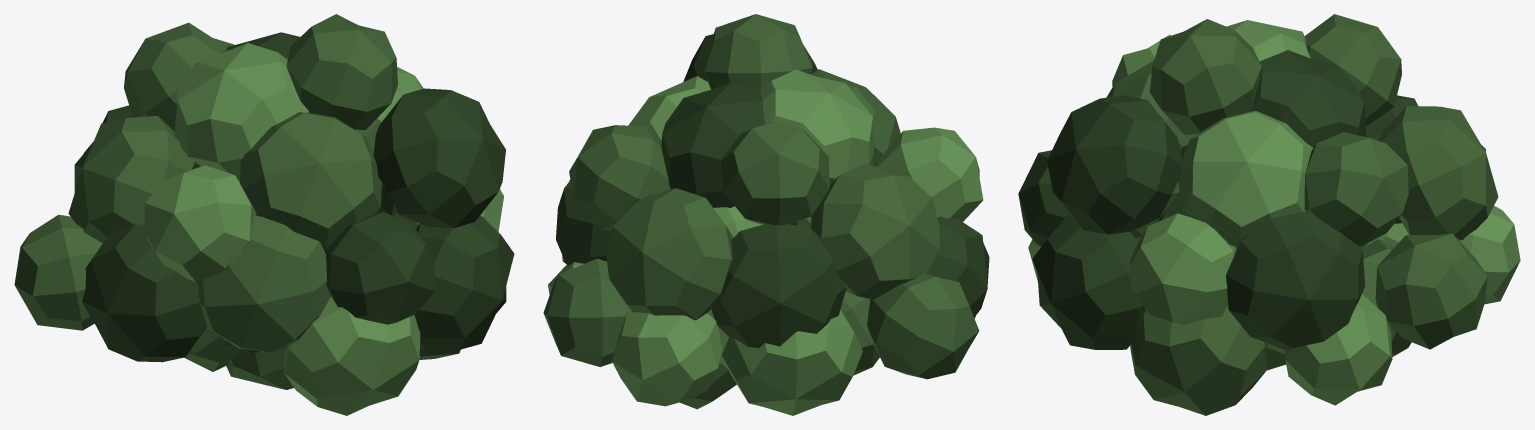
The model's file is buisson_1.fbx.
3 views of the same model, side by side, from view 1: azimuth 30°, elevation 25°; view 2: azimuth 150°, elevation 25°; view 3: azimuth 270°, elevation 25° (orthographic). The views are drawn at different scales.
Visible parts, largest first — view 1: polySurface109, polySurface107, polySurface117, polySurface121, polySurface103, polySurface126, polySurface110, polySurface112, polySurface119, polySurface116, polySurface104, polySurface120 (+6 smaller); view 2: polySurface111, polySurface110, polySurface115, polySurface125, polySurface106, polySurface120, polySurface122, polySurface102, polySurface108, polySurface103, polySurface132, polySurface112 (+9 smaller); view 3: polySurface113, polySurface109, polySurface105, polySurface111, polySurface119, polySurface124, polySurface132, polySurface104, polySurface114, polySurface108, polySurface102, polySurface123 (+8 smaller).
Part boxes in pixels (box(x1,y1,x2,y2)): polySurface109: box(373, 88, 505, 228); polySurface107: box(240, 112, 381, 250); polySurface117: box(197, 216, 330, 352); polySurface121: box(82, 224, 206, 362); polySurface103: box(174, 43, 308, 180); polySurface126: box(284, 297, 420, 415); polySurface110: box(68, 116, 194, 243); polySurface112: box(144, 165, 256, 282); polySurface119: box(414, 215, 514, 351); polySurface116: box(324, 212, 434, 324); polySurface104: box(286, 14, 397, 130); polySurface120: box(14, 214, 102, 330); polySurface111: box(606, 188, 733, 320); polySurface110: box(811, 163, 939, 299); polySurface115: box(711, 223, 846, 347); polySurface125: box(722, 310, 862, 415); polySurface106: box(721, 121, 829, 225); polySurface120: box(867, 273, 979, 379); polySurface122: box(612, 310, 721, 406); polySurface102: box(661, 81, 764, 207); polySurface108: box(569, 125, 672, 230); polySurface103: box(759, 69, 873, 185); polySurface132: box(543, 258, 630, 366); polySurface112: box(876, 127, 983, 221); polySurface113: box(1226, 211, 1365, 349); polySurface109: box(1047, 95, 1183, 234); polySurface105: box(1178, 111, 1313, 247); polySurface111: box(1378, 106, 1498, 240); polySurface119: box(1032, 215, 1145, 349); polySurface124: box(1130, 305, 1267, 415); polySurface132: box(1375, 233, 1487, 349); polySurface104: box(1150, 19, 1261, 134); polySurface114: box(1129, 213, 1236, 324); polySurface108: box(1304, 132, 1408, 246); polySurface102: box(1249, 50, 1366, 147); polySurface123: box(1284, 294, 1392, 405).
Size of the model in its own units: 3.19 by 2.5 by 3.28.
